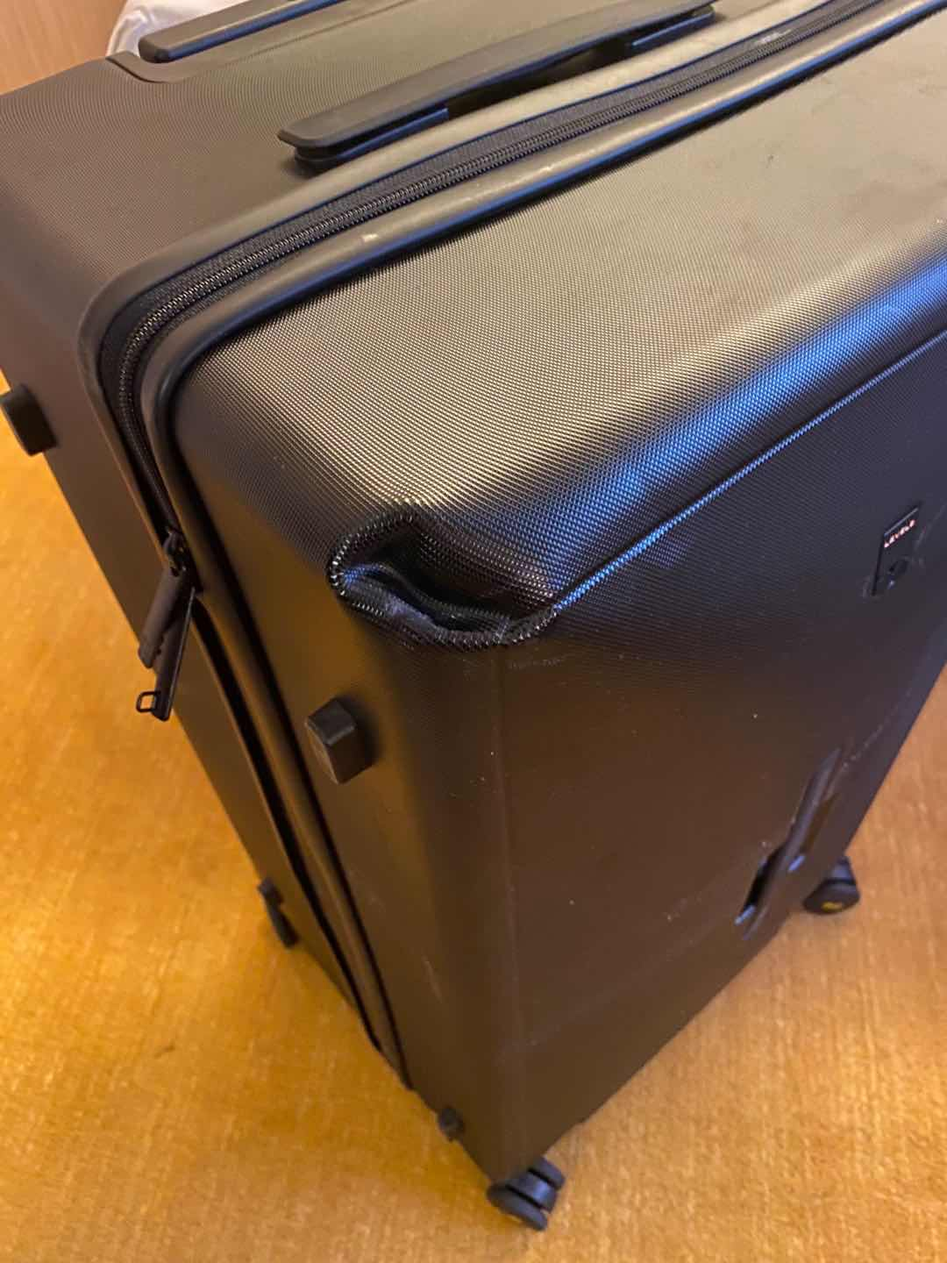hollow: (326, 509, 558, 651)
